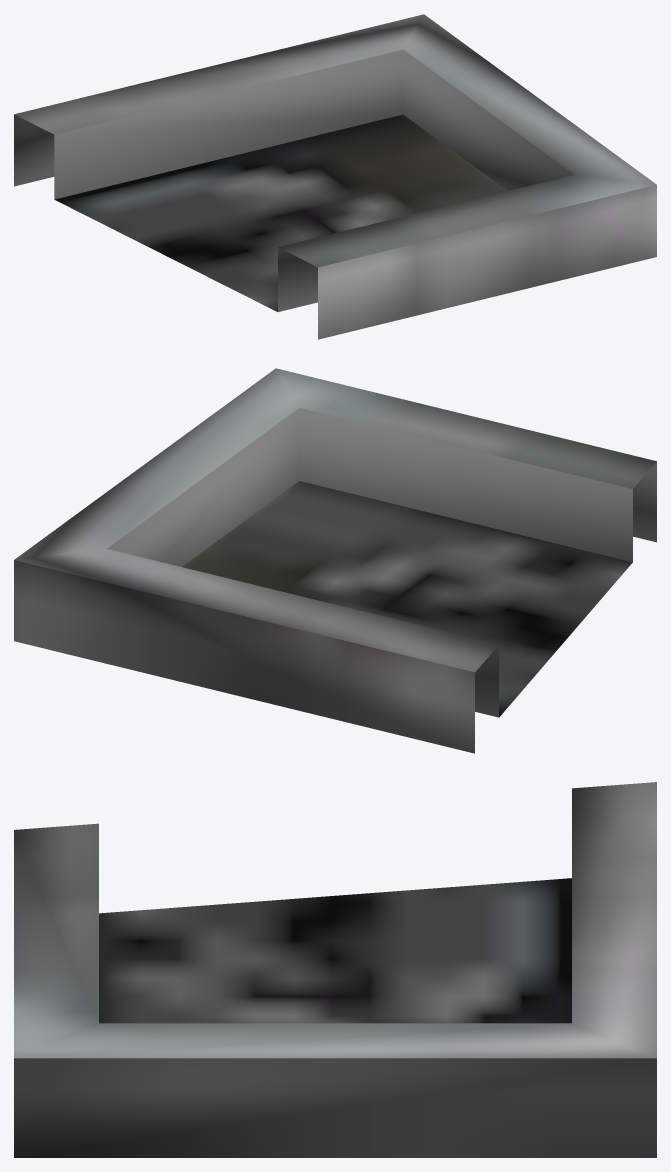
Rendered from Shared - Armor - Tanker Truck - Damage State 28 - CVTanker_d28.glb.
3 renders of one model, top to bottom at view 1: azimuth 30°, elevation 25°; view 2: azimuth 150°, elevation 25°; view 3: azimuth 270°, elevation 25°, orthographic. The views are drawn at different scales.
Parts seen in each view (by area): view 1: CVTANKER_D28; view 2: CVTANKER_D28; view 3: CVTANKER_D28.
Boxes of the visible parts, box(x1,y1,x2,y2) form: CVTANKER_D28: box(14, 14, 656, 339); CVTANKER_D28: box(14, 368, 656, 753); CVTANKER_D28: box(14, 782, 656, 1157).
Bounding box in the file's own units: 5.34 × 0.8981 × 5.25.
1 material, 1 textured.
